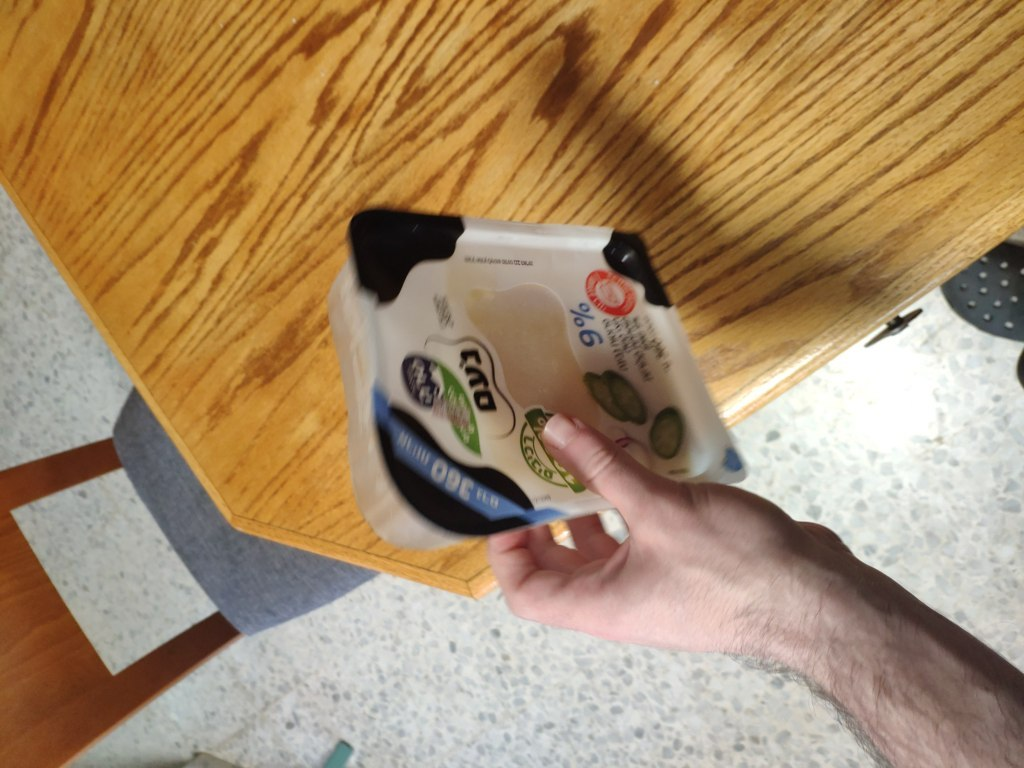Cheese: (311, 225, 665, 553)
